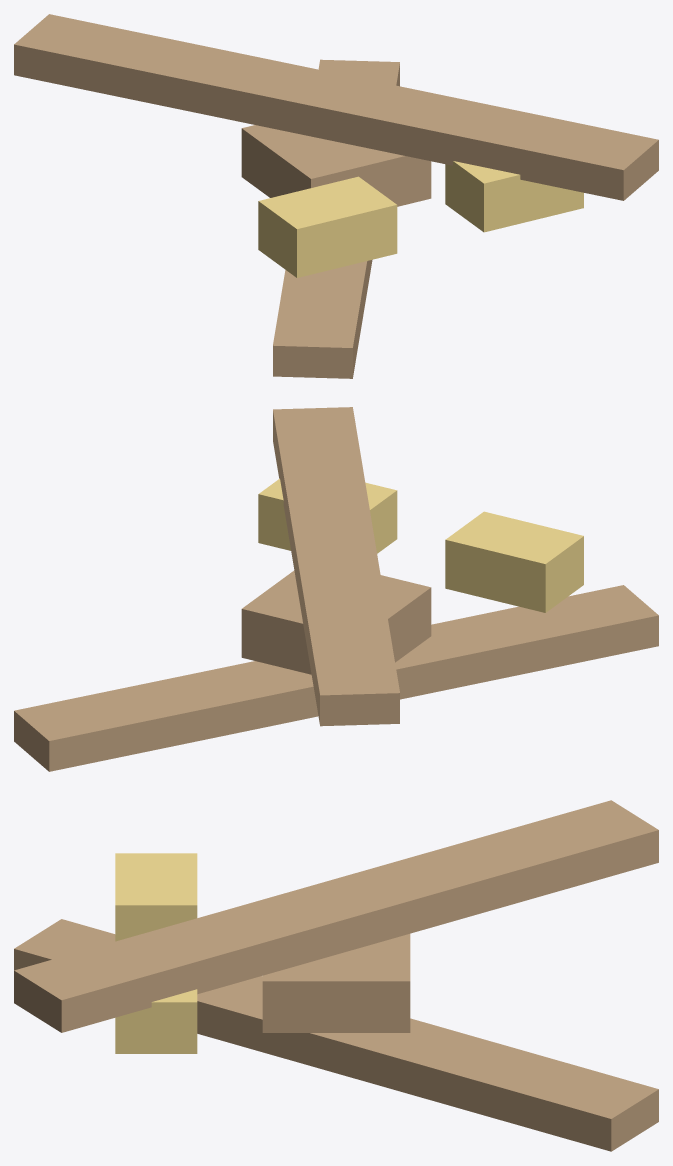
File: sig_tiger.glb
The picture shows the model from 3 angles, top to bottom: view 1: azimuth 30°, elevation 25°; view 2: azimuth 150°, elevation 25°; view 3: azimuth 270°, elevation 25°; orthographic projection. The views are drawn at different scales.
Parts seen in each view (by area): view 1: Cube.001, Cube.002, Cube.003, Cube, Cube.004; view 2: Cube.002, Cube.001, Cube.003, Cube, Cube.004; view 3: Cube.001, Cube.002, Cube, Cube.003, Cube.004.
Boxes of the visible parts, x1,y1,x2,y2 form: Cube.001: (14,14,658,200); Cube.002: (273,59,399,378); Cube.003: (258,176,397,277); Cube: (241,125,431,206); Cube.004: (445,161,583,232); Cube.002: (14,585,658,771); Cube.001: (273,407,399,726); Cube.003: (445,511,583,612); Cube: (241,570,431,674); Cube.004: (258,478,397,553); Cube.001: (14,800,658,1032); Cube.002: (14,919,658,1151); Cube: (262,934,410,1032); Cube.003: (115,853,197,941); Cube.004: (115,989,197,1053).
Size of the model in its own units: 0.2892 by 0.102 by 0.3939.
